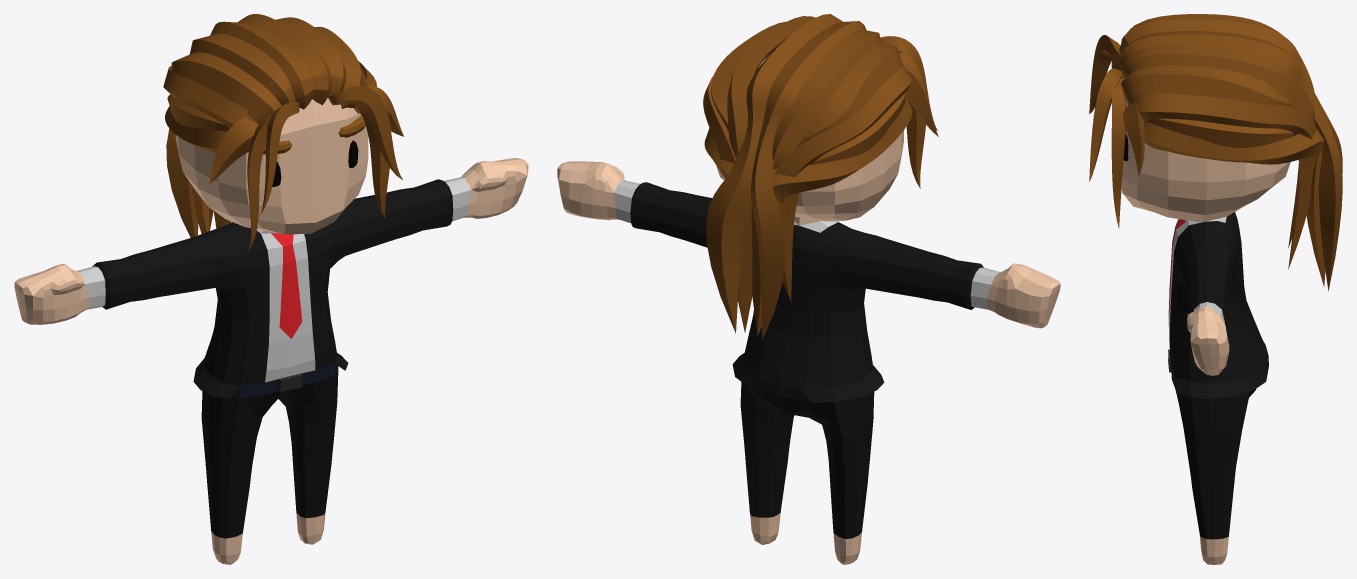
The model's file is FEMALE_SUIT.fbx.
The picture shows the model from 3 angles, left to right: view 1: azimuth 30°, elevation 25°; view 2: azimuth 150°, elevation 25°; view 3: azimuth 270°, elevation 25°; orthographic projection. The views are drawn at different scales.
Visible parts, largest first — view 1: Body; view 2: Body; view 3: Body.
Part boxes in pixels (left/top/right/bottom): Body: left=14, top=14, right=528, bottom=564; Body: left=557, top=14, right=1060, bottom=564; Body: left=1089, top=14, right=1342, bottom=564.
Size of the model in its own units: 324 by 320 by 142.
